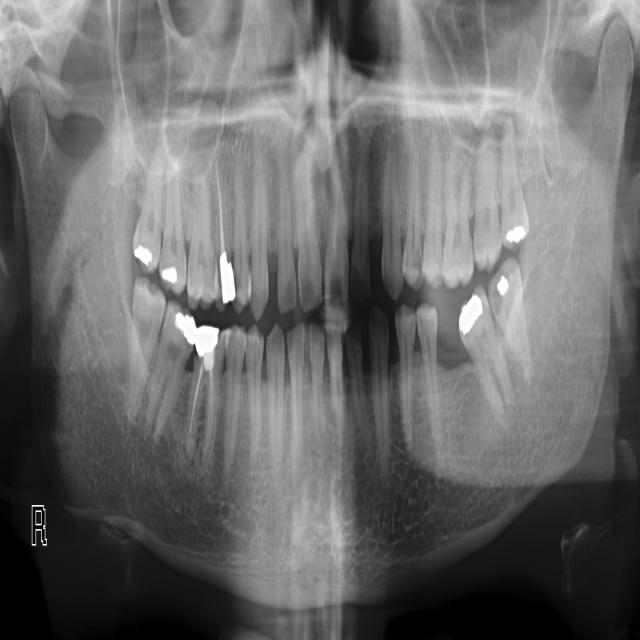tooth: (458, 291, 510, 416), (143, 309, 191, 438), (126, 279, 165, 420), (492, 256, 532, 376), (186, 171, 219, 307), (294, 156, 322, 310), (189, 326, 220, 462), (473, 143, 503, 270), (443, 155, 472, 286), (323, 156, 349, 297), (133, 160, 164, 271), (159, 163, 185, 293), (275, 152, 296, 312), (367, 309, 389, 454), (416, 304, 439, 442), (499, 134, 528, 243), (250, 150, 269, 312), (224, 328, 246, 466), (265, 325, 287, 455), (395, 305, 415, 447), (382, 154, 402, 296), (423, 155, 444, 284), (404, 153, 423, 287), (245, 328, 264, 455), (233, 181, 251, 311), (288, 323, 304, 447), (347, 321, 364, 435), (327, 321, 343, 433), (308, 323, 324, 430)
